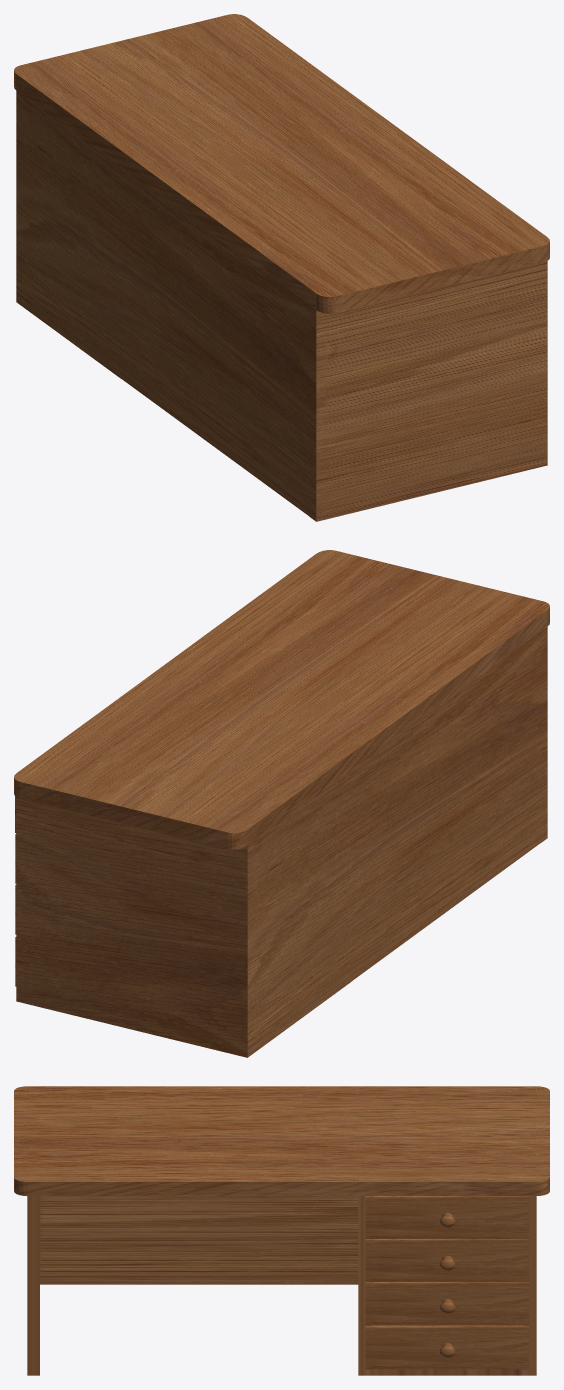
The model's file is draw.fbx.
The picture shows the model from 3 angles, top to bottom: view 1: azimuth 30°, elevation 25°; view 2: azimuth 150°, elevation 25°; view 3: azimuth 270°, elevation 25°; orthographic projection. The views are drawn at different scales.
Visible parts, largest first — view 1: Cube; view 2: Cube; view 3: Cube, Cube.004, Cube.003, Cube.001, Cube.002.
Part boxes in pixels (x1,y1,x2,y2): Cube: (14, 14, 549, 521); Cube: (14, 550, 549, 1057); Cube: (14, 1086, 549, 1375); Cube.004: (365, 1325, 528, 1369); Cube.003: (365, 1282, 528, 1325); Cube.001: (365, 1196, 528, 1238); Cube.002: (365, 1239, 528, 1281).
Size of the model in its own units: 217 by 189 by 473.
